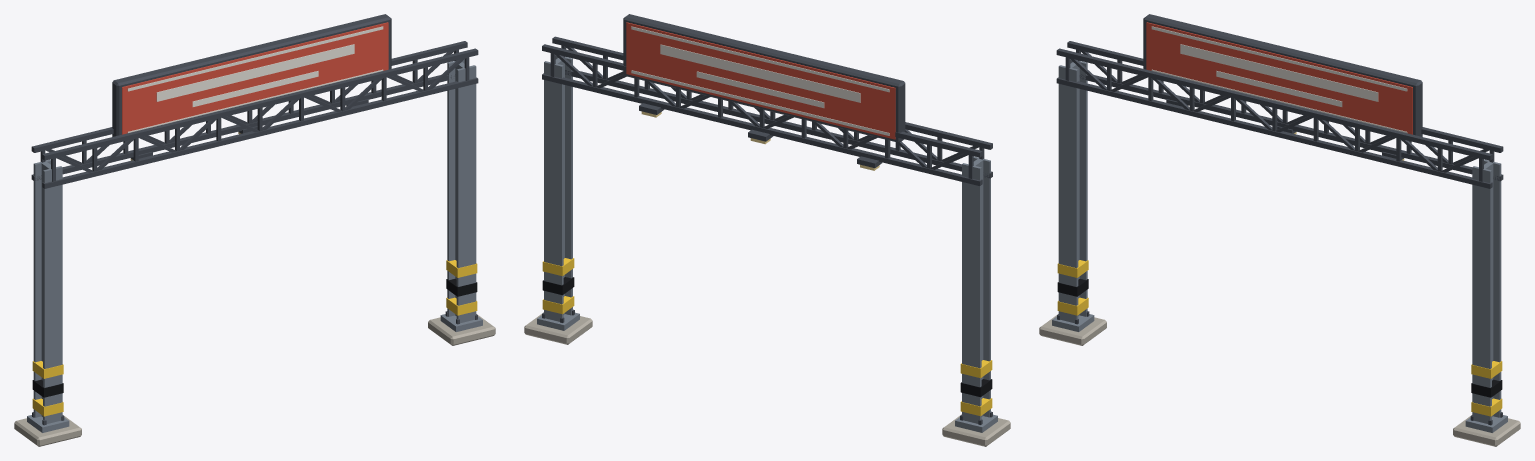
The model's file is border_gantry.glb.
3 views of the same model, side by side, from view 1: azimuth 30°, elevation 25°; view 2: azimuth 150°, elevation 25°; view 3: azimuth 330°, elevation 25° (orthographic).
Visible parts, largest first — view 1: border_gantry; view 2: border_gantry; view 3: border_gantry.
Boxes of the visible parts, x1,y1,x2,y2 form: border_gantry: (14, 14, 495, 446); border_gantry: (524, 14, 1010, 446); border_gantry: (1039, 14, 1520, 446).
Bounding box in the file's own units: 5.1 × 3.53 × 0.48.
Materials: 1 (1 with a texture image).
